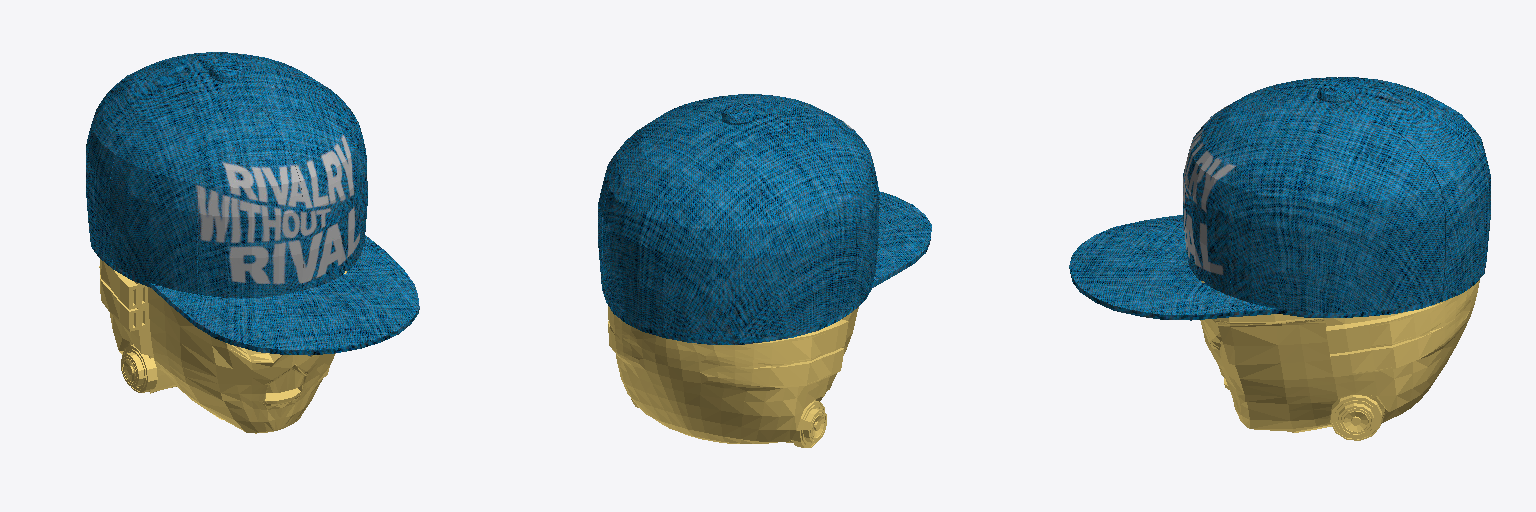
3 renders of one model, left to right at view 1: azimuth 30°, elevation 25°; view 2: azimuth 150°, elevation 25°; view 3: azimuth 270°, elevation 25°, orthographic.
Parts seen in each view (by area): view 1: baseball_hat_baseball_hat.Mesh, c3po_c3po.Mesh; view 2: baseball_hat_baseball_hat.Mesh, c3po_c3po.Mesh; view 3: baseball_hat_baseball_hat.Mesh, c3po_c3po.Mesh.
Boxes of the visible parts, x1=… form: baseball_hat_baseball_hat.Mesh: x1=86, y1=52, x2=419, y2=355; c3po_c3po.Mesh: x1=99, y1=259, x2=346, y2=433; baseball_hat_baseball_hat.Mesh: x1=598, y1=94, x2=931, y2=344; c3po_c3po.Mesh: x1=608, y1=306, x2=858, y2=447; baseball_hat_baseball_hat.Mesh: x1=1069, y1=77, x2=1490, y2=320; c3po_c3po.Mesh: x1=1200, y1=280, x2=1479, y2=440.
Size of the model in its own units: 6.72 by 9.24 by 10.45.
2 materials, 2 textured.